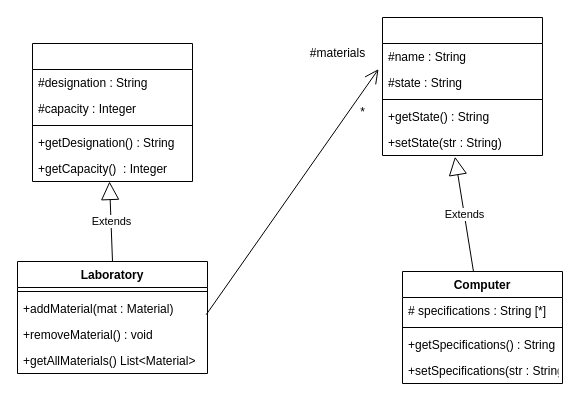
Some shapes in this 584 by 404 pixel diagram are drawn without their labels. Here are the shapes that lost their labels. From the top down, the box of each, then its label:
(382, 16, 542, 156): Material
(32, 42, 192, 182): Room
